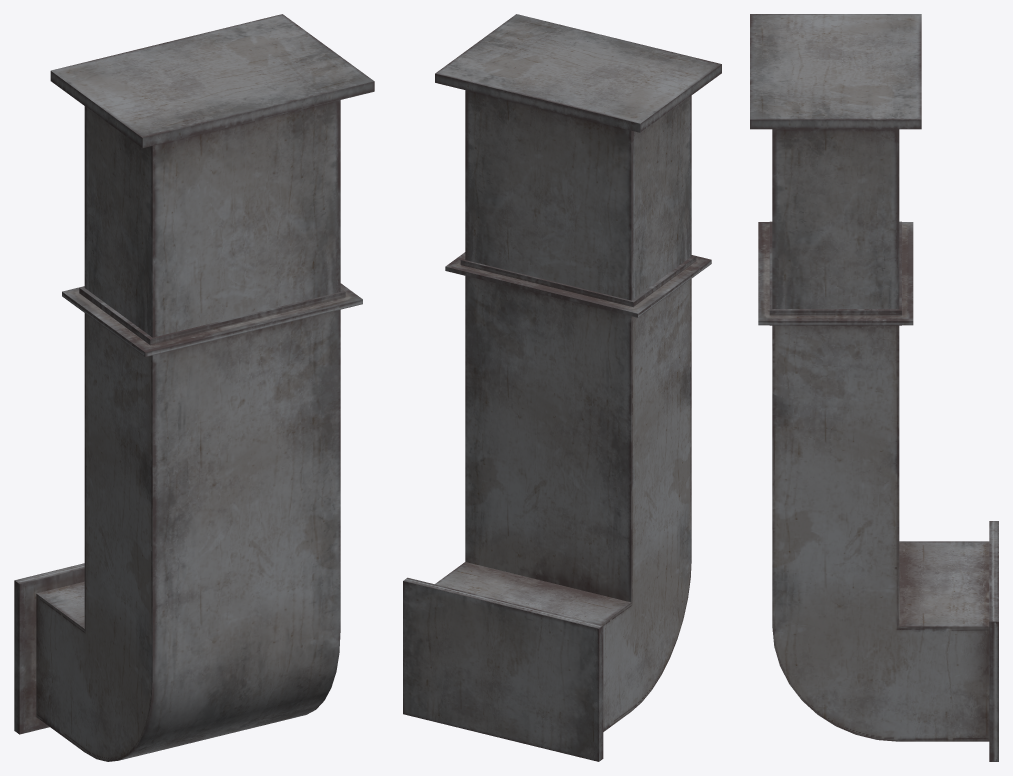
The model's file is Chimney_Square_B_Short.fbx.
The picture shows the model from 3 angles, left to right: view 1: azimuth 30°, elevation 25°; view 2: azimuth 150°, elevation 25°; view 3: azimuth 270°, elevation 25°; orthographic projection. The views are drawn at different scales.
Visible parts, largest first — view 1: Chimney_Square_B_Short; view 2: Chimney_Square_B_Short; view 3: Chimney_Square_B_Short.
Part boxes in pixels (x1,y1,x2,y2): Chimney_Square_B_Short: (14,14,374,761); Chimney_Square_B_Short: (403,14,721,761); Chimney_Square_B_Short: (750,14,998,761).
Bounding box in the file's own units: 64.65 × 184 × 64.41.
Materials: 1 (1 with a texture image).
